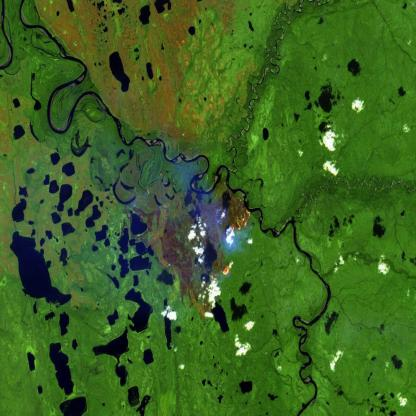fire: (211, 192, 268, 292)
